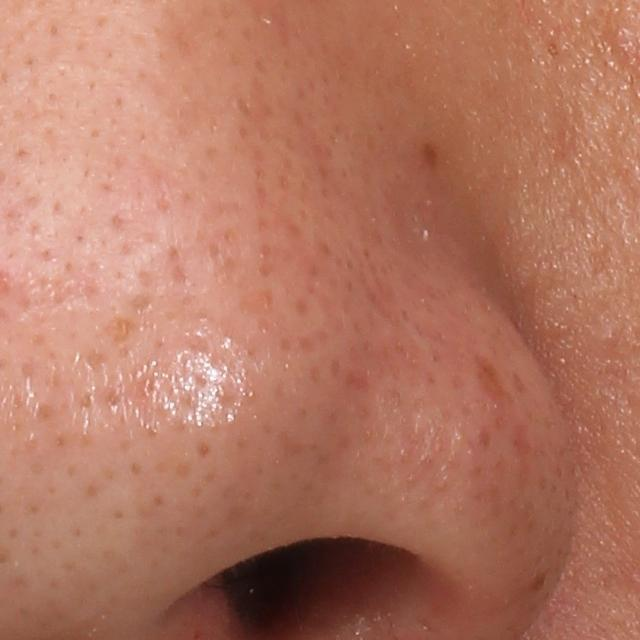melasma: (473, 352, 514, 405)
nevus: (419, 140, 444, 161), (530, 572, 547, 590)
